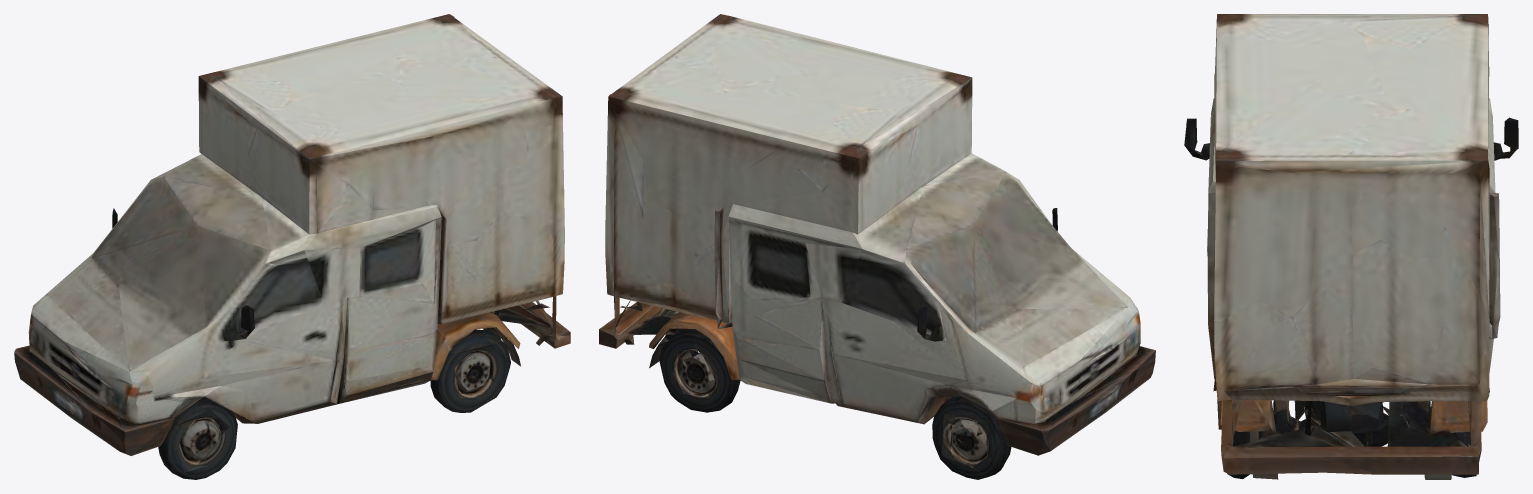
Rendered from truck.glb.
3 views of the same model, side by side, from view 1: azimuth 30°, elevation 25°; view 2: azimuth 150°, elevation 25°; view 3: azimuth 270°, elevation 25° (orthographic). The views are drawn at different scales.
Size of the model in its own units: 1.9 by 1.21 by 1.
1 material, 1 textured.
